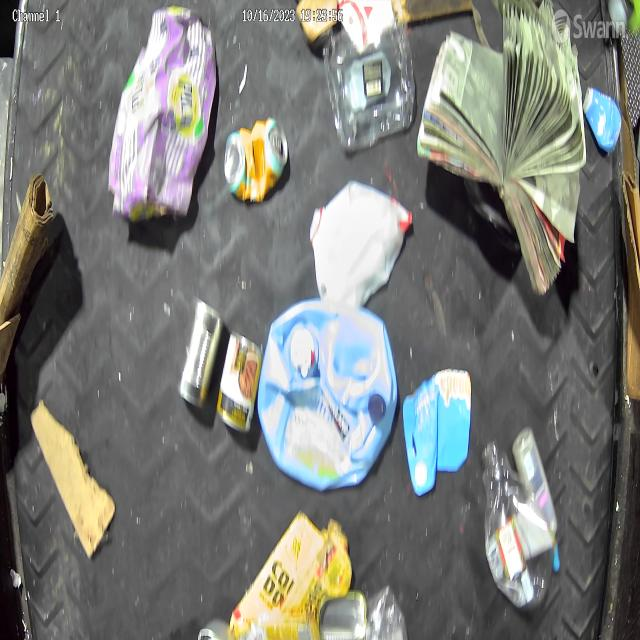can: (223, 114, 290, 206), (174, 295, 224, 411), (216, 327, 263, 435)
milk_jug: (308, 178, 414, 306)
non_white_jug: (256, 296, 400, 492), (108, 4, 216, 226), (230, 511, 353, 640)
plastic_bottle: (480, 439, 557, 614)
